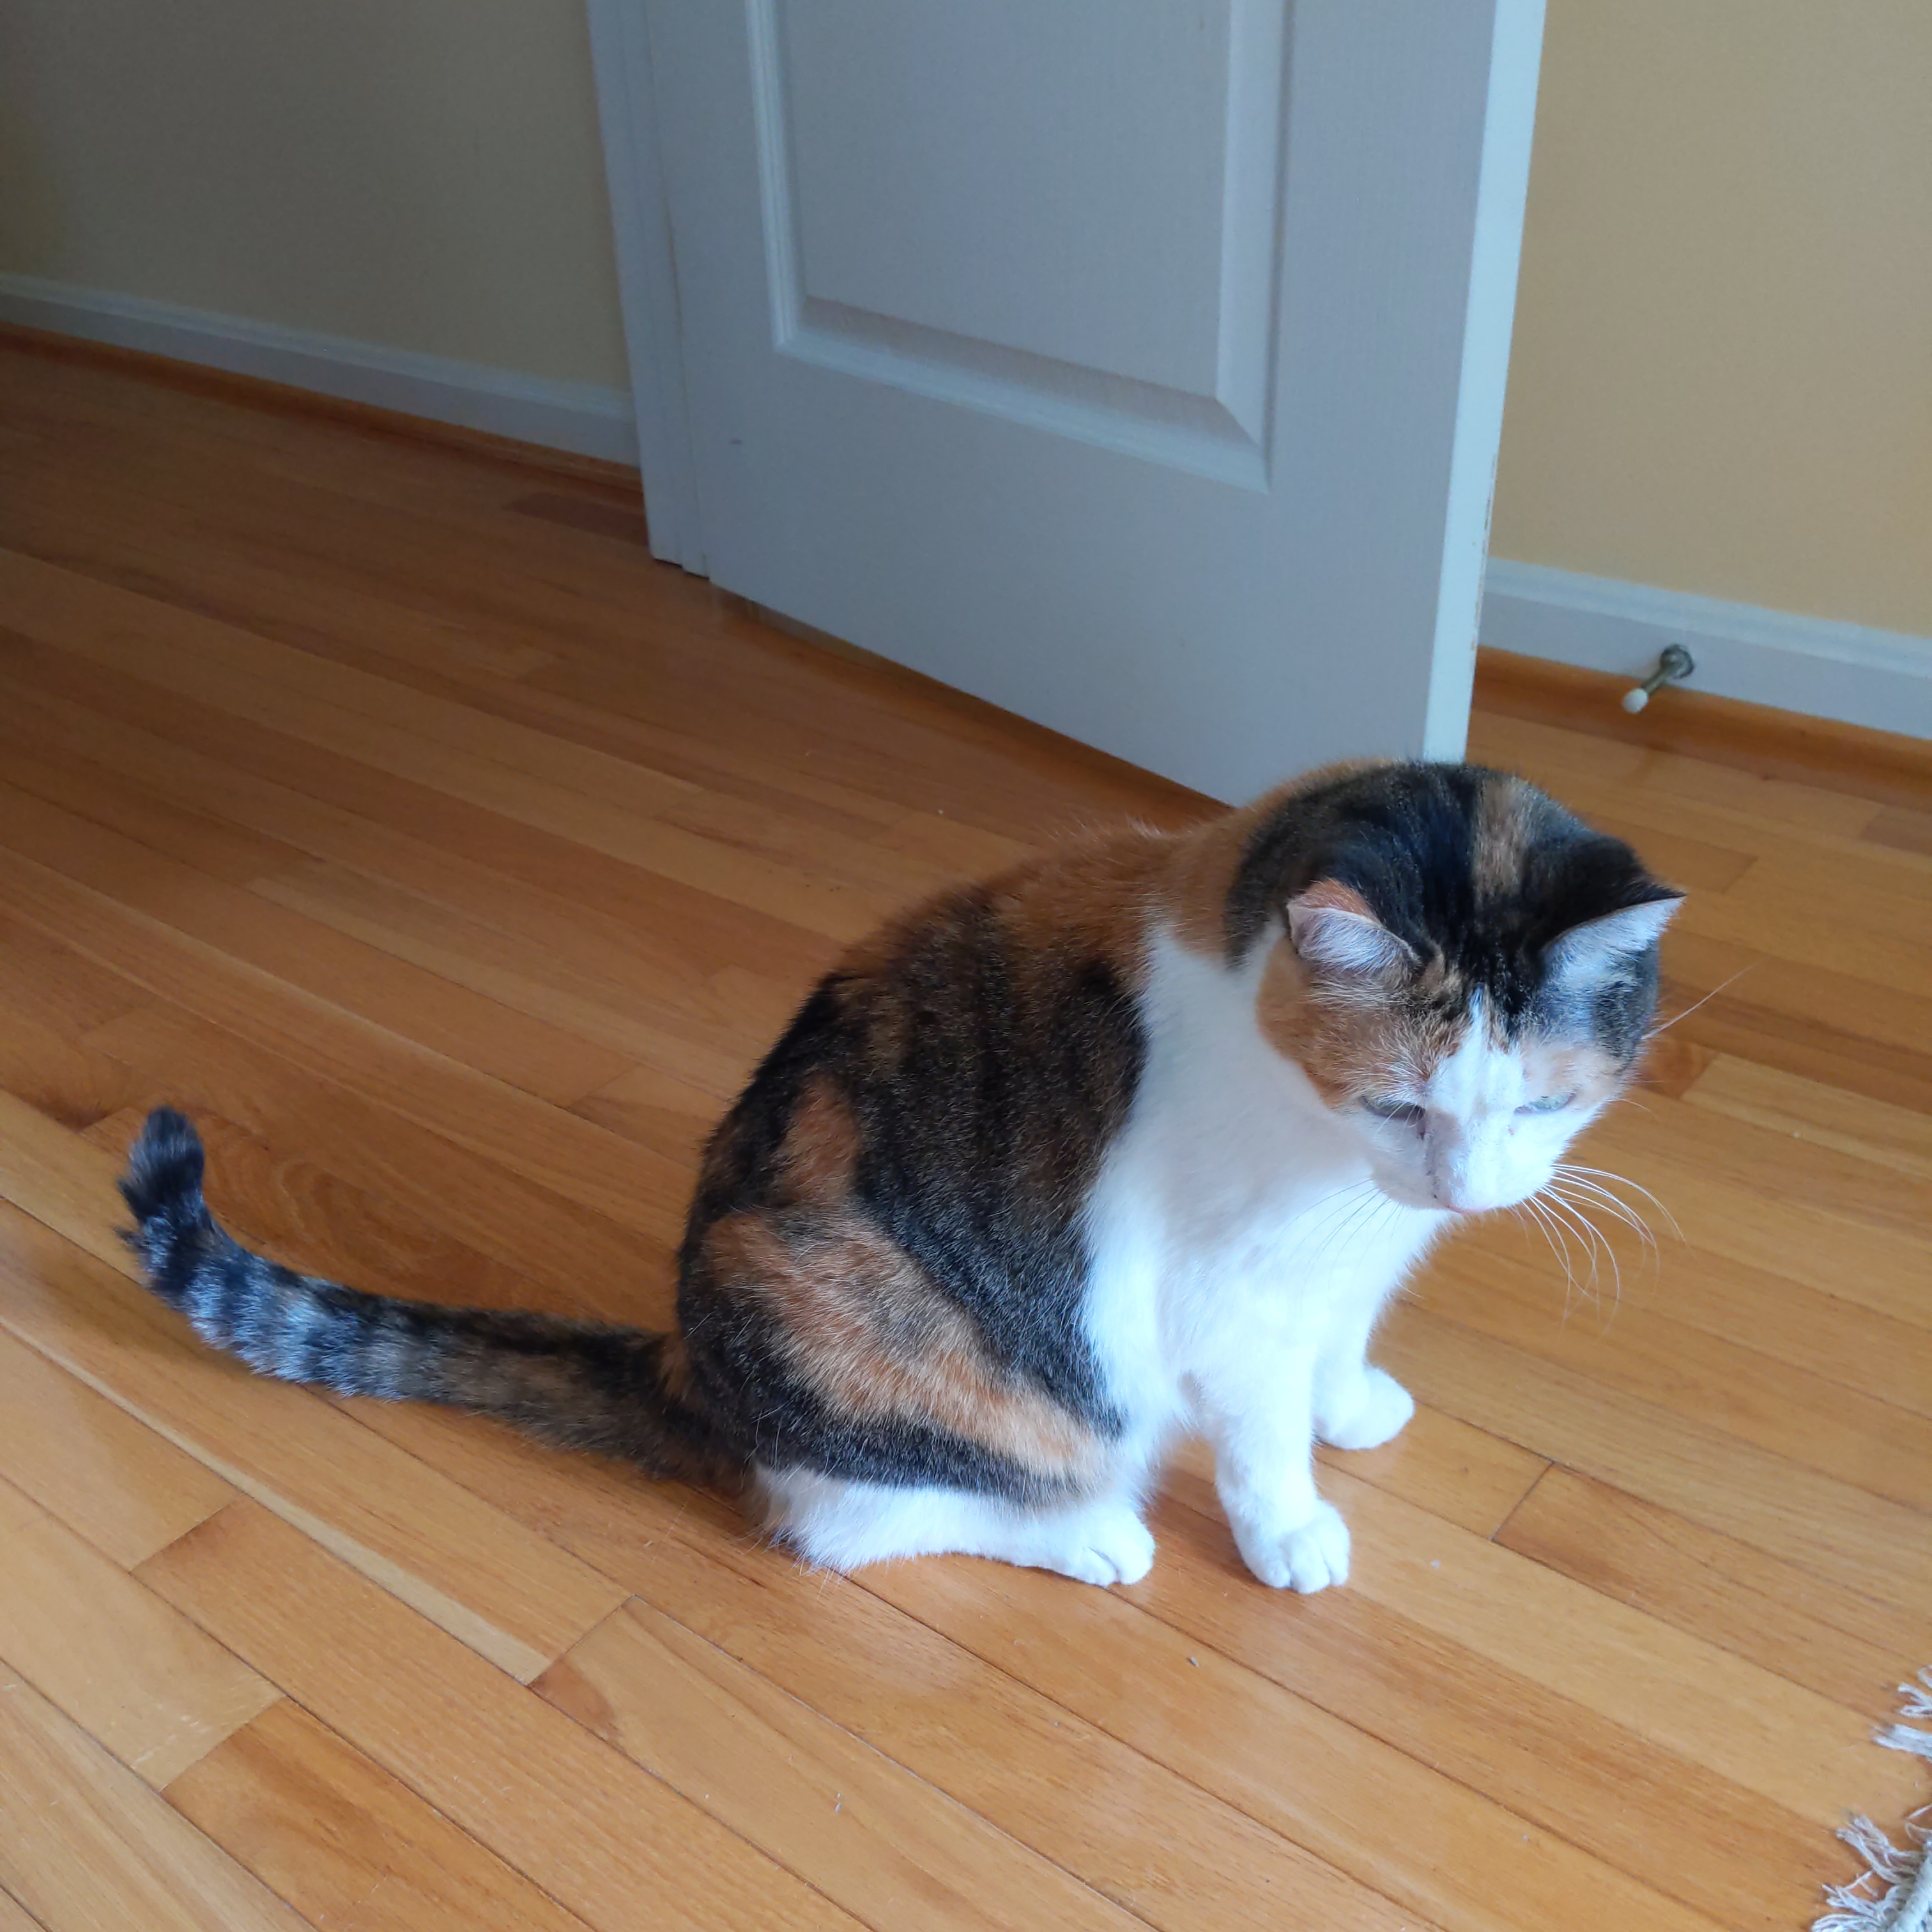Calico: (126, 759, 1684, 1598)
